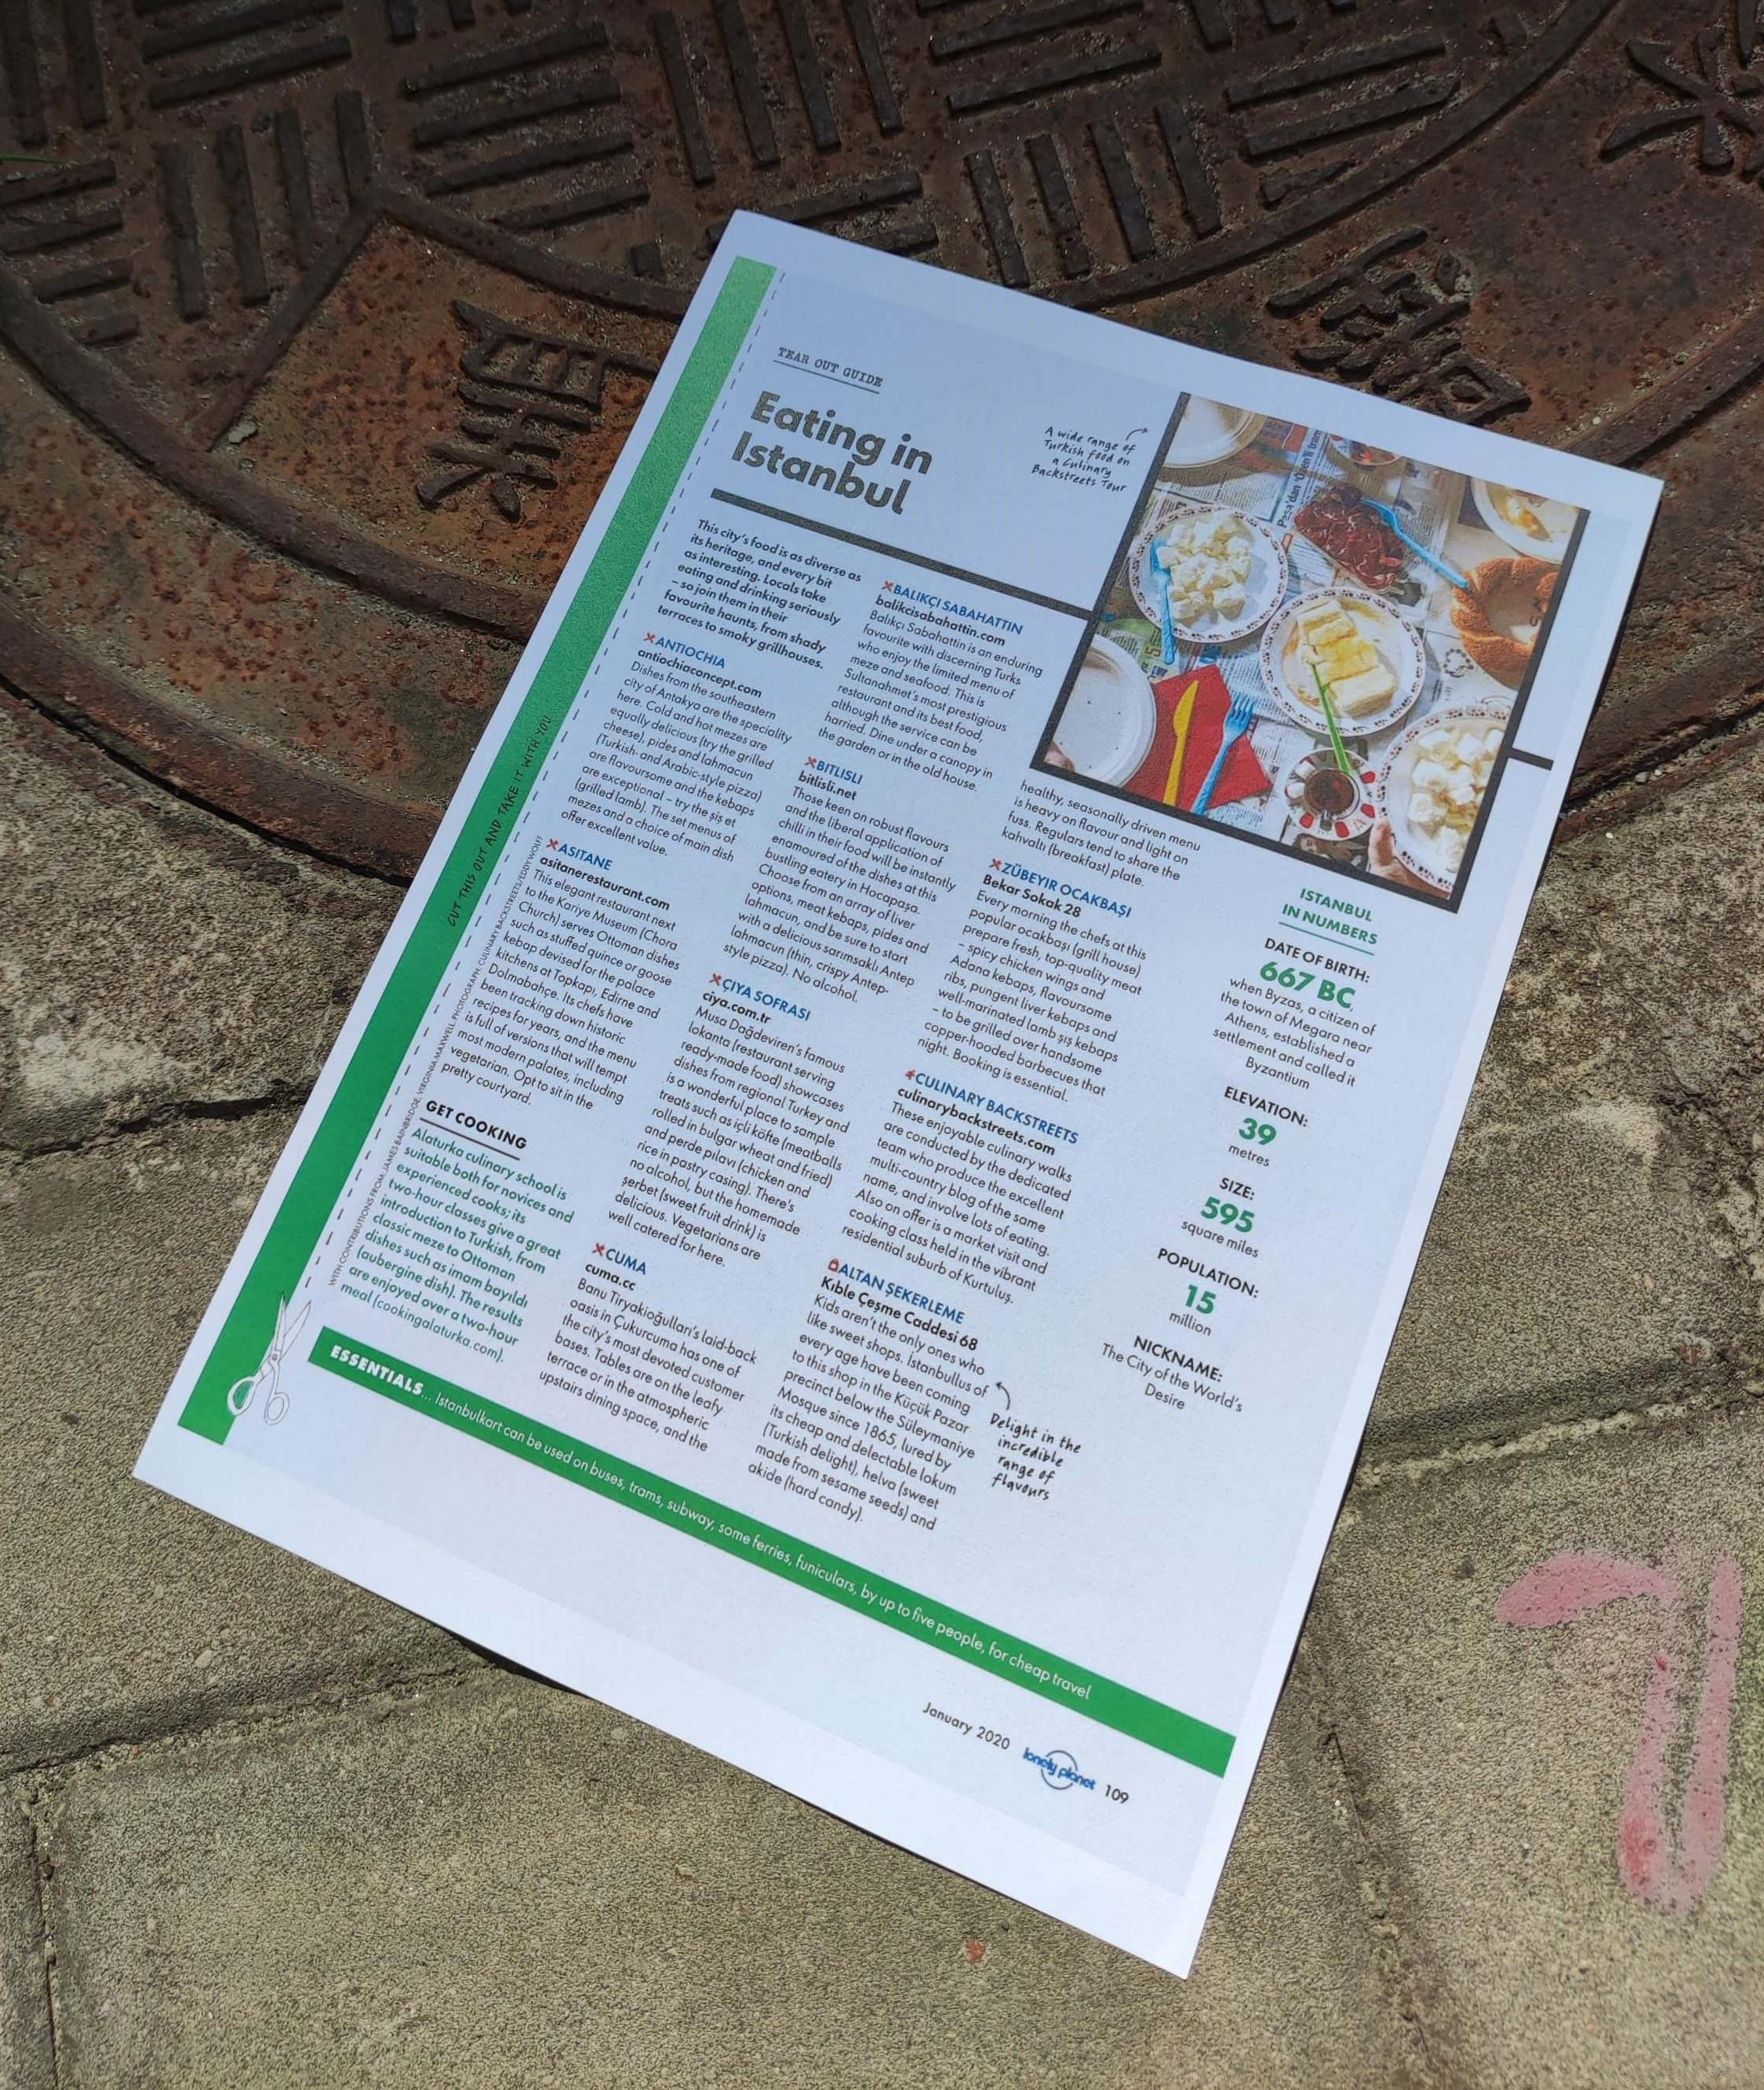paper: (0, 0, 1764, 2067)
